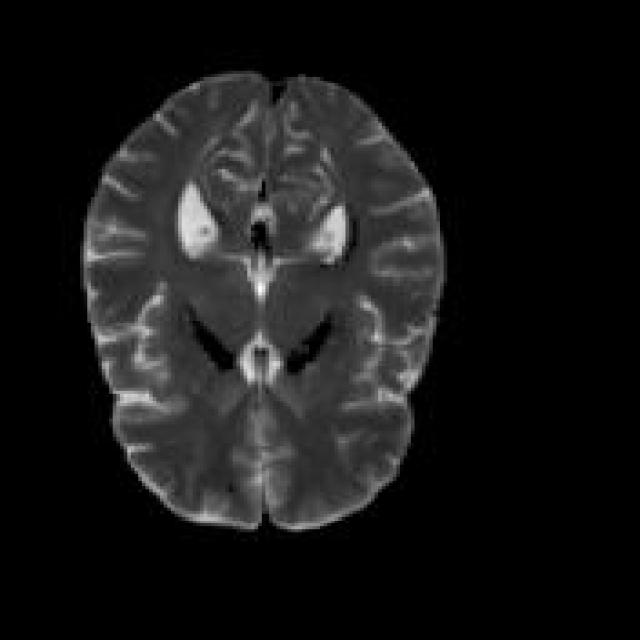CONTROL: (76, 68, 448, 532)
